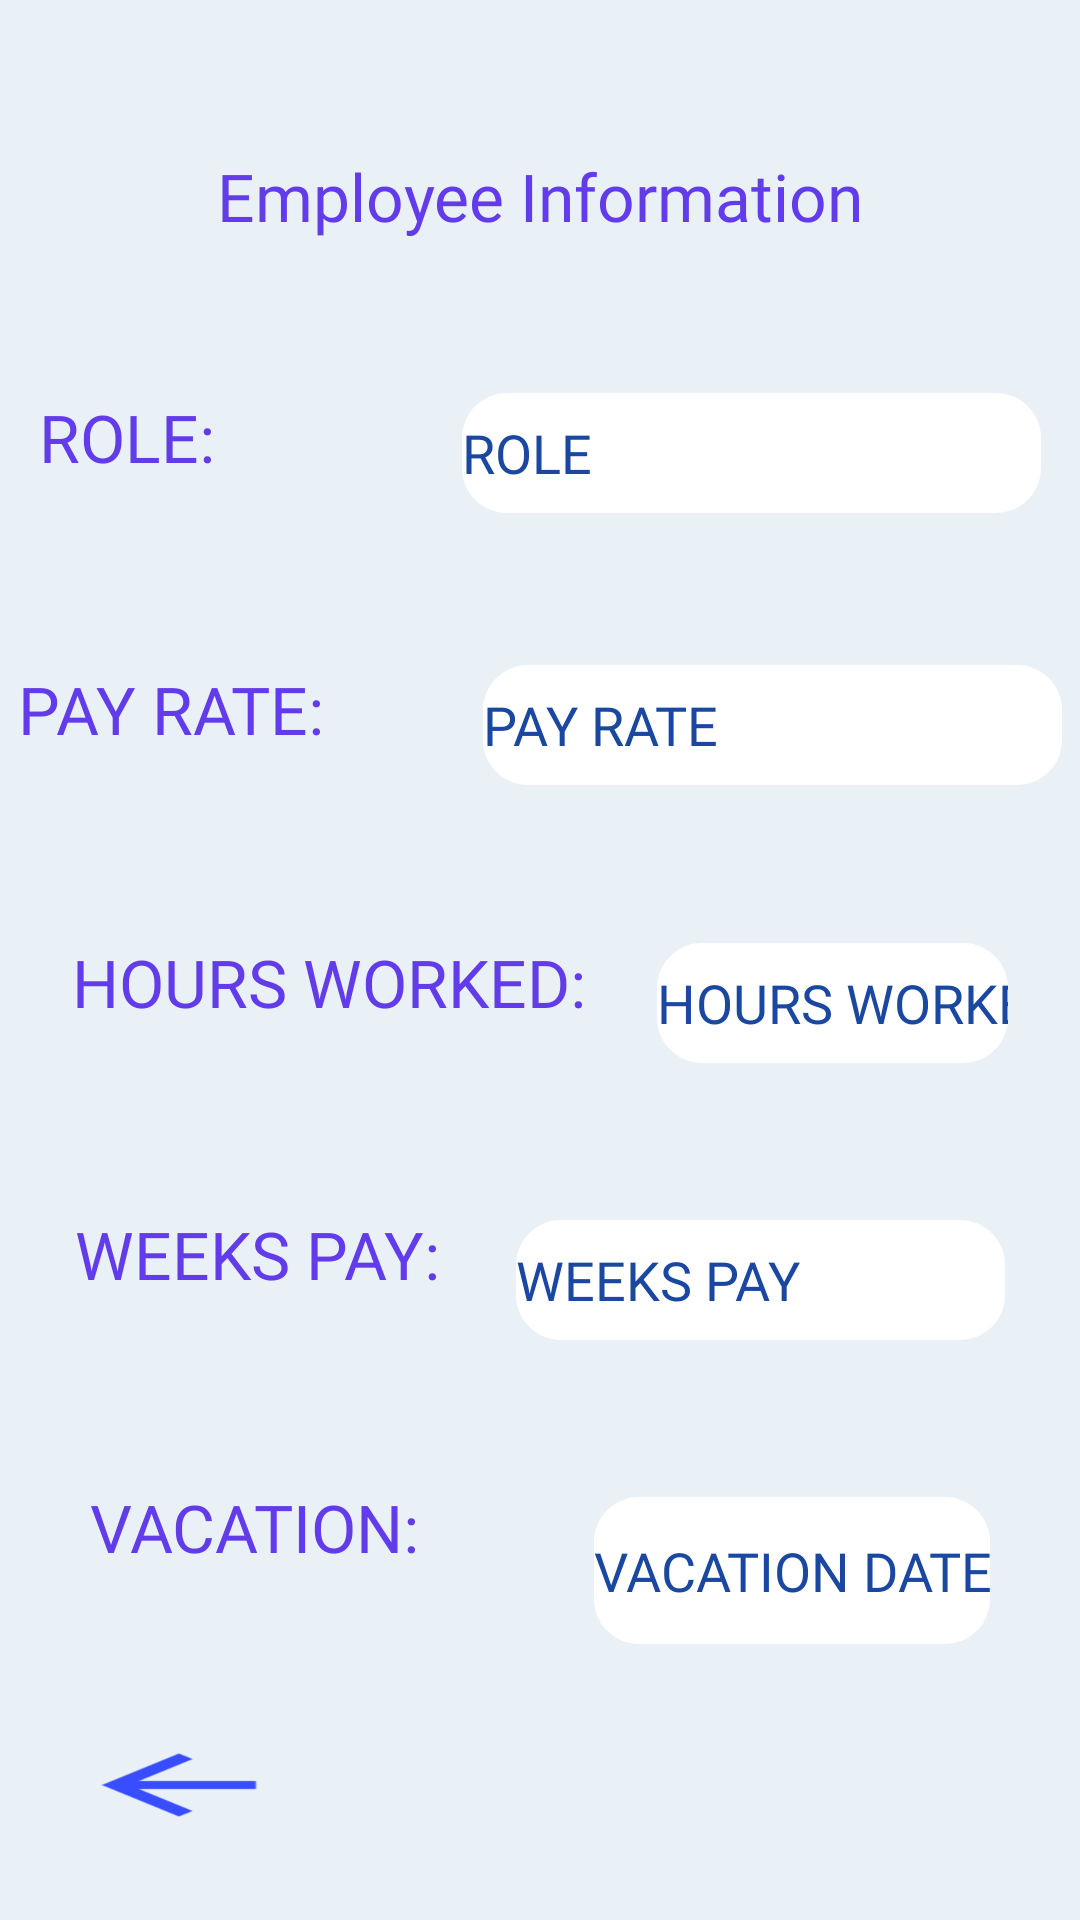

Where to tap for icons on this 1080 × 1920 app screen, as (x,y):
back: (179,1785)
